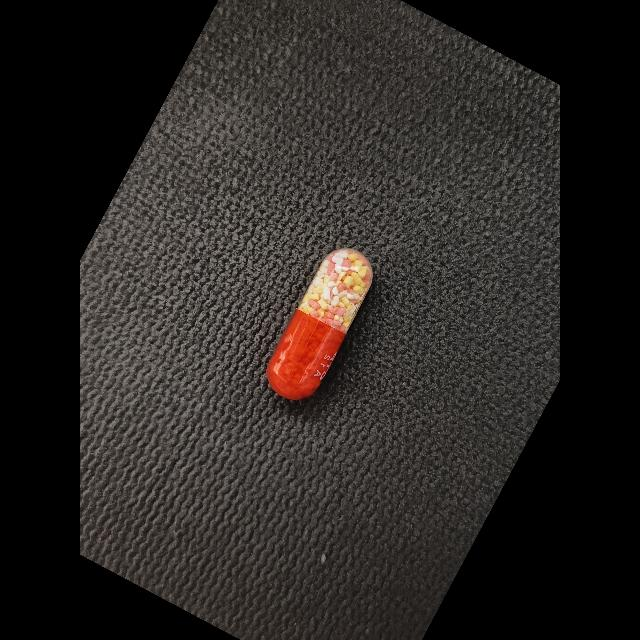Intact Capsule: (267, 248, 373, 400)
